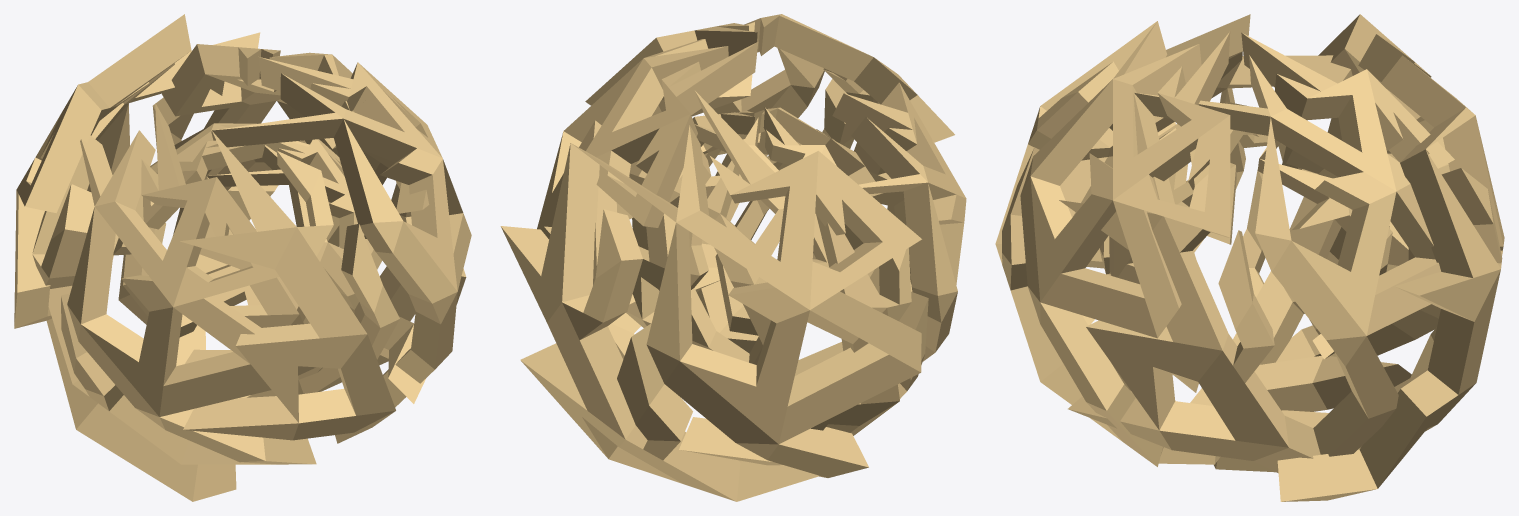
The model's file is tumbleweed.fbx.
The picture shows the model from 3 angles, left to right: view 1: azimuth 30°, elevation 25°; view 2: azimuth 150°, elevation 25°; view 3: azimuth 270°, elevation 25°; orthographic projection. The views are drawn at different scales.
Parts seen in each view (by area): view 1: Icosphere, Icosphere.002, Icosphere.001, Icosphere.003, Icosphere.005, Icosphere.004; view 2: Icosphere.001, Icosphere.002, Icosphere.003, Icosphere, Icosphere.004, Icosphere.005; view 3: Icosphere.003, Icosphere, Icosphere.001, Icosphere.002, Icosphere.004, Icosphere.005.
Part boxes in pixels (left/top/right/bottom): Icosphere: left=180, top=56, right=471, bottom=443; Icosphere.002: left=32, top=103, right=316, bottom=464; Icosphere.001: left=14, top=14, right=388, bottom=501; Icosphere.003: left=162, top=44, right=466, bottom=403; Icosphere.005: left=185, top=139, right=382, bottom=379; Icosphere.004: left=113, top=123, right=309, bottom=337; Icosphere.001: left=500, top=90, right=921, bottom=501; Icosphere.002: left=679, top=82, right=966, bottom=465; Icosphere.003: left=537, top=22, right=758, bottom=359; Icosphere: left=585, top=14, right=954, bottom=353; Icosphere.004: left=626, top=107, right=836, bottom=364; Icosphere.005: left=692, top=107, right=882, bottom=335; Icosphere.003: left=1059, top=32, right=1454, bottom=473; Icosphere: left=995, top=21, right=1230, bottom=466; Icosphere.001: left=1214, top=14, right=1504, bottom=501; Icosphere.002: left=1060, top=14, right=1411, bottom=464; Icosphere.004: left=1225, top=101, right=1392, bottom=359; Icosphere.005: left=1099, top=123, right=1244, bottom=392.
Size of the model in its own units: 209 by 217 by 220.
